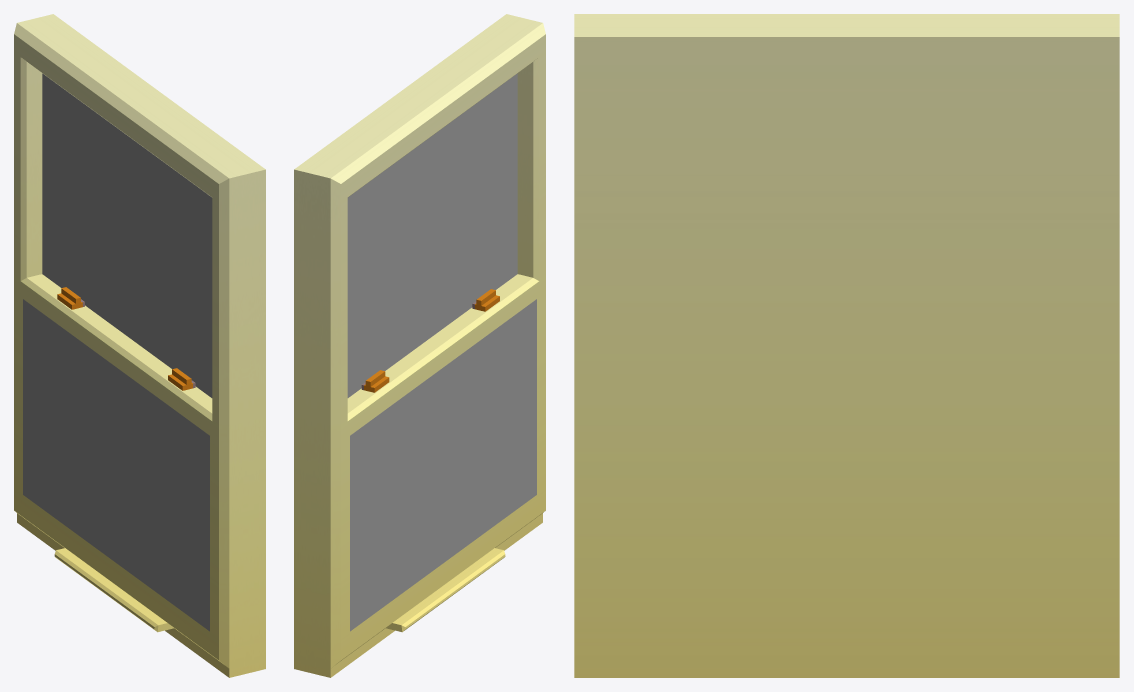
Rendered from window.fbx.
The picture shows the model from 3 angles, left to right: view 1: azimuth 30°, elevation 25°; view 2: azimuth 150°, elevation 25°; view 3: azimuth 270°, elevation 25°; orthographic projection. The views are drawn at different scales.
Visible parts, largest first — view 1: window; view 2: window; view 3: window.
Part boxes in pixels (x1=…): window: x1=14, y1=14, x2=265, y2=677; window: x1=294, y1=14, x2=545, y2=677; window: x1=574, y1=14, x2=1119, y2=677.
Size of the model in its own units: 0.5374 by 4.63 by 3.57.
